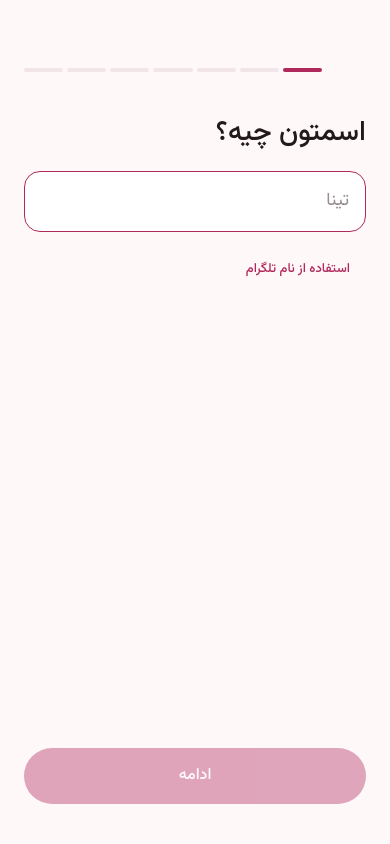
Onboarding photo step › hides Enter Luma while the photo is being chosen
The image size is (390, 844).
Later steps or results of the test are not shown.
Type "Ali" into the field with placeholder "تینا" at (195, 202), box [24,171,366,232]
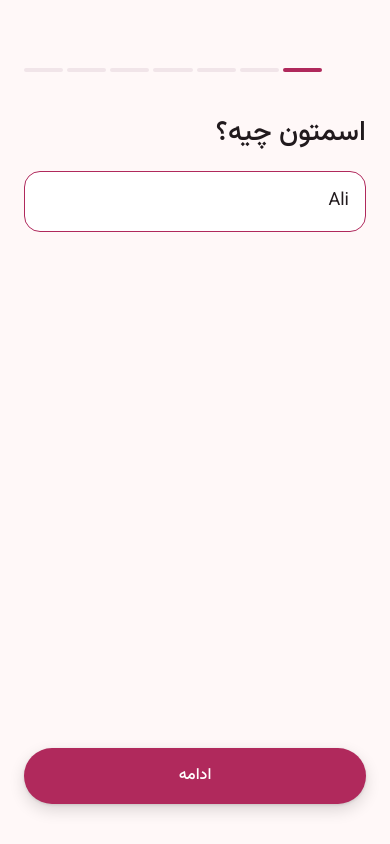
Click the button "ادامه" at (195, 776), box [24,748,366,804]
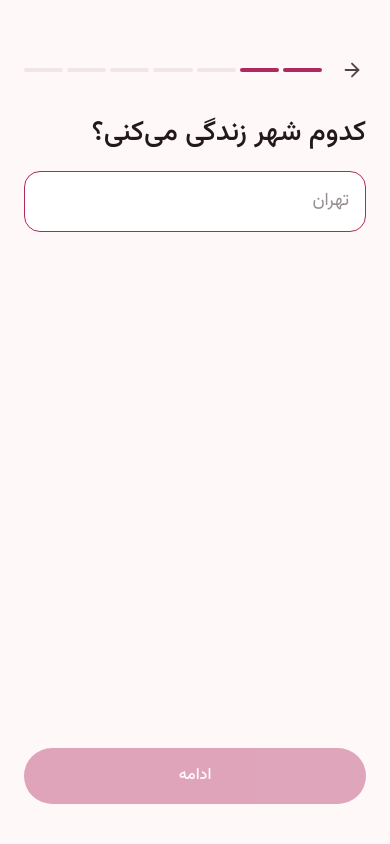
Result: the field with placeholder "تهران" is shown at [24,171,366,232]
